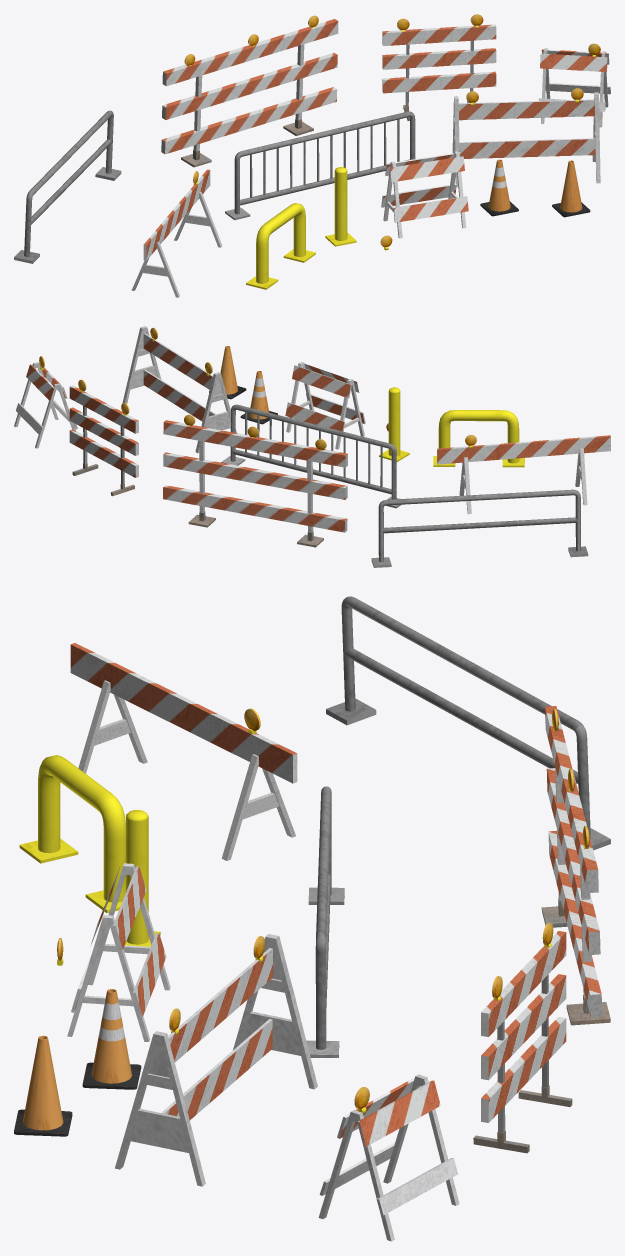
Rendered from Barricades.fbx.
The picture shows the model from 3 angles, top to bottom: view 1: azimuth 30°, elevation 25°; view 2: azimuth 150°, elevation 25°; view 3: azimuth 270°, elevation 25°; orthographic projection. The views are drawn at different scales.
Visible parts, largest first — view 1: Barricade3L, A_Barricade2L, Barricade3S, A_Barricade_Traffic, CrowdControl, RailGuard, A_Barricade1S, A_Barricade_Safety, U_Barricade, ParkingLot_Barricade, ConeTraffic, ConeBasic; view 2: Barricade3L, A_Barricade2L, Barricade3S, A_Barricade1S, CrowdControl, RailGuard, A_Barricade_Traffic, U_Barricade, A_Barricade_Safety, ParkingLot_Barricade, ConeTraffic, ConeBasic; view 3: A_Barricade2L, A_Barricade1S, Barricade3S, Barricade3L, RailGuard, A_Barricade_Safety, U_Barricade, A_Barricade_Traffic, CrowdControl, ConeTraffic, ConeBasic, ParkingLot_Barricade.
Part boxes in pixels (bbox=[...]): Barricade3L: bbox=[161, 19, 338, 167]; A_Barricade2L: bbox=[452, 92, 600, 187]; Barricade3S: bbox=[382, 24, 496, 120]; A_Barricade_Traffic: bbox=[381, 151, 468, 238]; CrowdControl: bbox=[225, 111, 415, 220]; RailGuard: bbox=[14, 110, 121, 263]; A_Barricade1S: bbox=[131, 169, 222, 297]; A_Barricade_Safety: bbox=[538, 48, 610, 127]; U_Barricade: bbox=[246, 203, 315, 289]; ParkingLot_Barricade: bbox=[325, 167, 356, 246]; ConeTraffic: bbox=[480, 159, 518, 216]; ConeBasic: bbox=[552, 160, 590, 217]; Barricade3L: bbox=[163, 420, 347, 547]; A_Barricade2L: bbox=[122, 326, 236, 453]; Barricade3S: bbox=[69, 385, 138, 496]; A_Barricade1S: bbox=[437, 435, 610, 514]; CrowdControl: bbox=[221, 404, 401, 508]; RailGuard: bbox=[371, 489, 588, 567]; A_Barricade_Traffic: bbox=[285, 361, 365, 449]; U_Barricade: bbox=[433, 410, 524, 467]; A_Barricade_Safety: bbox=[14, 362, 77, 448]; ParkingLot_Barricade: bbox=[379, 387, 409, 461]; ConeTraffic: bbox=[240, 371, 277, 424]; ConeBasic: bbox=[209, 346, 246, 399]; A_Barricade2L: bbox=[115, 934, 317, 1186]; A_Barricade1S: bbox=[70, 643, 297, 860]; Barricade3S: bbox=[473, 931, 572, 1153]; Barricade3L: bbox=[541, 706, 610, 1025]; RailGuard: bbox=[326, 596, 610, 850]; A_Barricade_Safety: bbox=[318, 1074, 459, 1241]; U_Barricade: bbox=[19, 755, 125, 913]; A_Barricade_Traffic: bbox=[67, 863, 170, 1041]; CrowdControl: bbox=[306, 786, 344, 1057]; ConeTraffic: bbox=[82, 989, 141, 1089]; ConeBasic: bbox=[14, 1035, 72, 1136]; ParkingLot_Barricade: bbox=[114, 810, 160, 946].
Size of the model in its own units: 910 by 160 by 428.
Materials: 1 (1 with a texture image).
